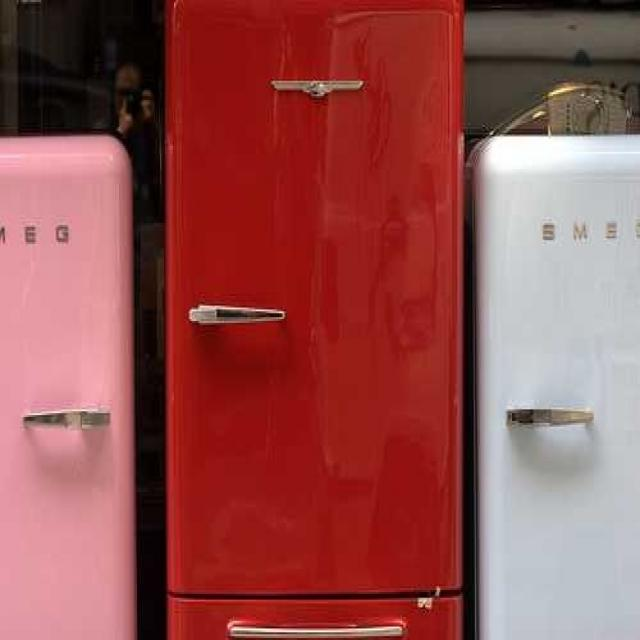refrigerator: (168, 2, 462, 638), (468, 119, 639, 640), (0, 113, 141, 638)
